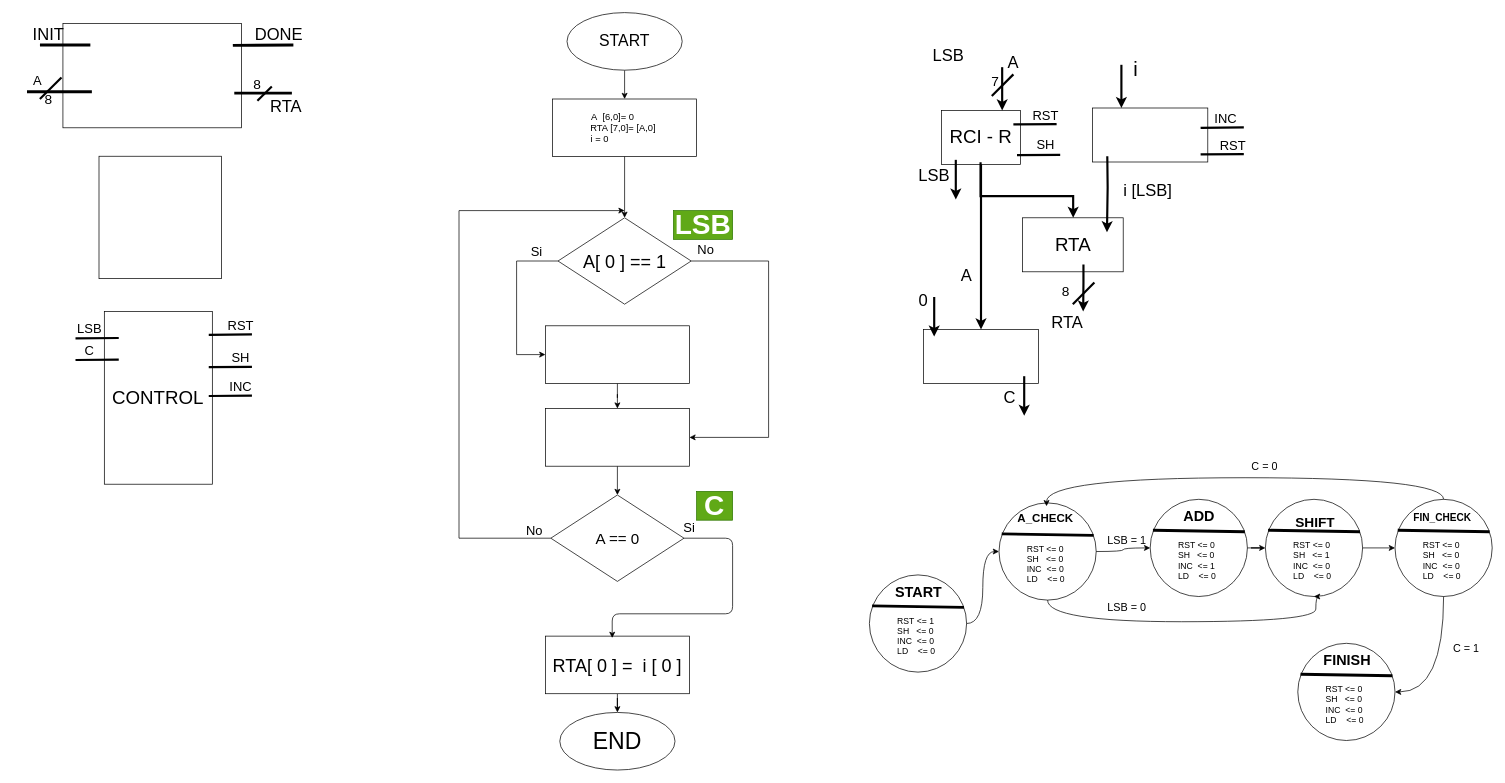
Some shapes in this 1505 by 783 pixel diagram are drawn without their labels. Here are the shapes that lost their labels. From the top down, the centre of each, then its label:
(x=151, y=75): SPI
(x=1150, y=134): ACC
(x=159, y=217): SHIFT-R ACC """ i CLOCK
(x=617, y=354): I++
(x=981, y=356): COMP
(x=617, y=437): A >> 1
